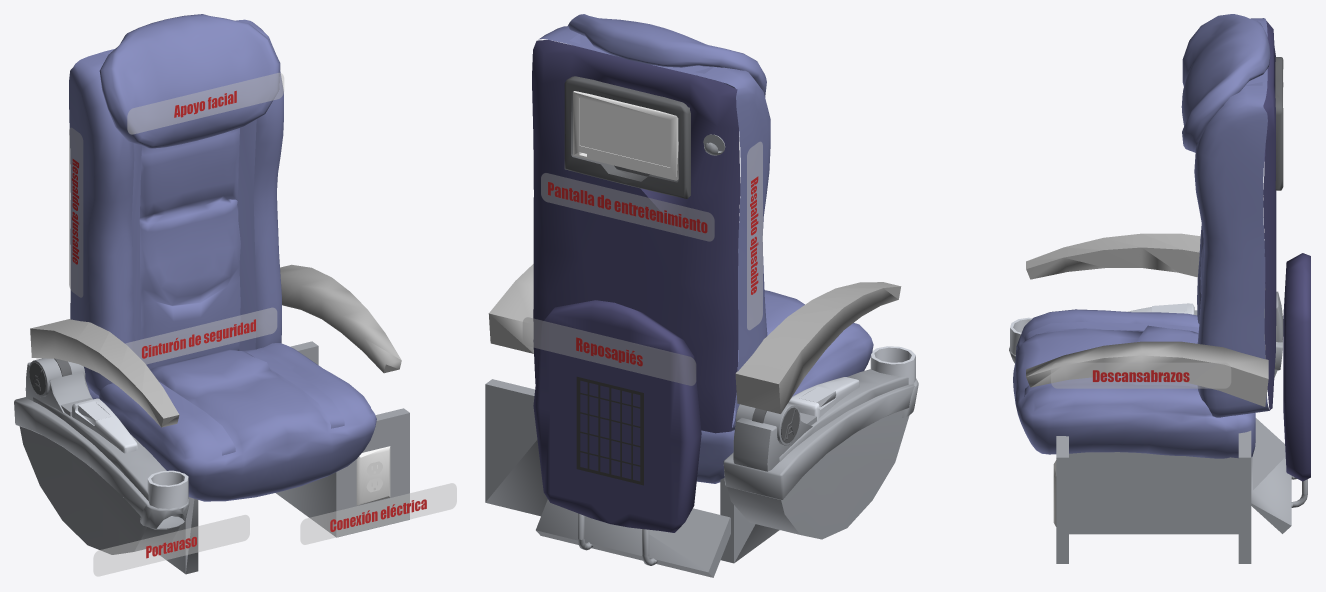
The model's file is asiento-tag6.gltf.
3 views of the same model, side by side, from view 1: azimuth 30°, elevation 25°; view 2: azimuth 150°, elevation 25°; view 3: azimuth 270°, elevation 25° (orthographic). The views are drawn at different scales.
Visible parts, largest first — view 1: Recargadera_fron, Asiento, Descanzanuca, Descanza_brazos, Plastico_1, Plastico_2, Costuras, Plastico_4, apoyo, portavaso, conexion, cinturon (+8 smaller); view 2: Recargadera_tras, Descanza_pies, Descanza_brazos, Plastico_1, Plastico_2, Recargadera_fron, Eje_de_Descanzapies, Plastico_3, Descanzanuca, Porta_pantalla, Asiento, reposapies (+10 smaller); view 3: Asiento, Recargadera_fron, Descanza_brazos, Plastico_, Descanzanuca, Descanza_pies, descansabrazos, Recargadera_tras, Eje_de_Descanzapies, Plastico_3, Plastico_4, Costura (+2 smaller).
Part boxes in pixels (x1,y1,x2,y2): Recargadera_fron: (69,19,283,396); Asiento: (87,343,376,501); Descanzanuca: (99,14,280,148); Descanza_brazos: (30,264,401,427); Plastico_1: (14,362,189,529); Plastico_2: (19,426,180,554); Costuras: (103,51,256,358); Plastico_4: (336,408,409,537); apoyo: (127,73,284,134); portavaso: (93,515,249,576); conexion: (300,483,456,544); cinturon: (125,307,277,364); Recargadera_tras: (532,40,740,433); Descanza_pies: (533,300,701,532); Descanza_brazos: (488,264,901,413); Plastico_1: (723,369,918,500); Plastico_2: (727,410,909,539); Recargadera_fron: (538,26,770,431); Eje_de_Descanzapies: (536,499,730,577); Plastico_3: (485,379,547,516); Descanzanuca: (567,14,766,97); Porta_pantalla: (564,76,690,198); Asiento: (696,290,873,483); reposapies: (522,317,696,385); Asiento: (1013,309,1255,458); Recargadera_fron: (1194,18,1269,417); Descanza_brazos: (1026,233,1268,406); Plastico_: (1069,452,1238,534); Descanzanuca: (1181,14,1270,152); Descanza_pies: (1283,253,1310,481); descansabrazos: (1051,362,1231,388); Recargadera_tras: (1263,21,1276,410); Eje_de_Descanzapies: (1251,418,1291,533); Plastico_3: (1238,430,1251,563); Plastico_4: (1056,436,1068,563); Costura: (1024,321,1198,396).
Bounding box in the file's own units: 127 × 150 × 89.3.
Materials: 24 (8 with a texture image).
